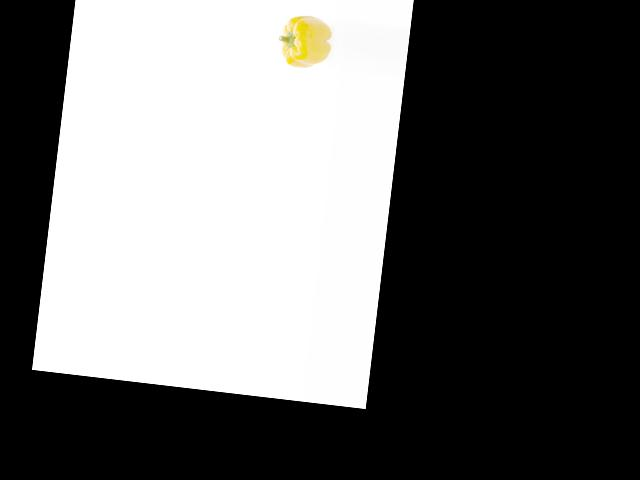bell_pepper: (273, 13, 335, 74)
